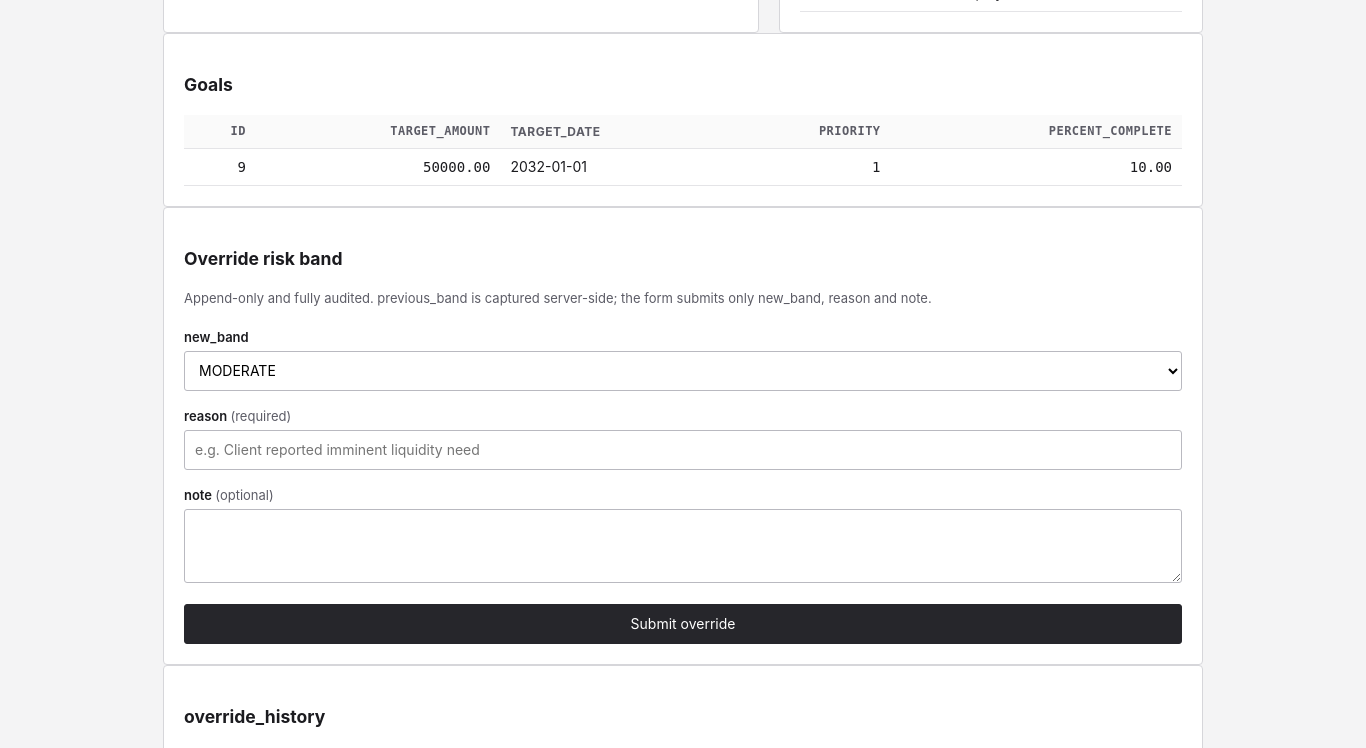
CustomerDetail › updates the displayed risk_band and override_history after a successful override, without navigating
(page scrolled)
Select "CONSERVATIVE" in the dropdown labelled "new_band" at x=683, y=371, box left=184, top=351, right=1182, bottom=391
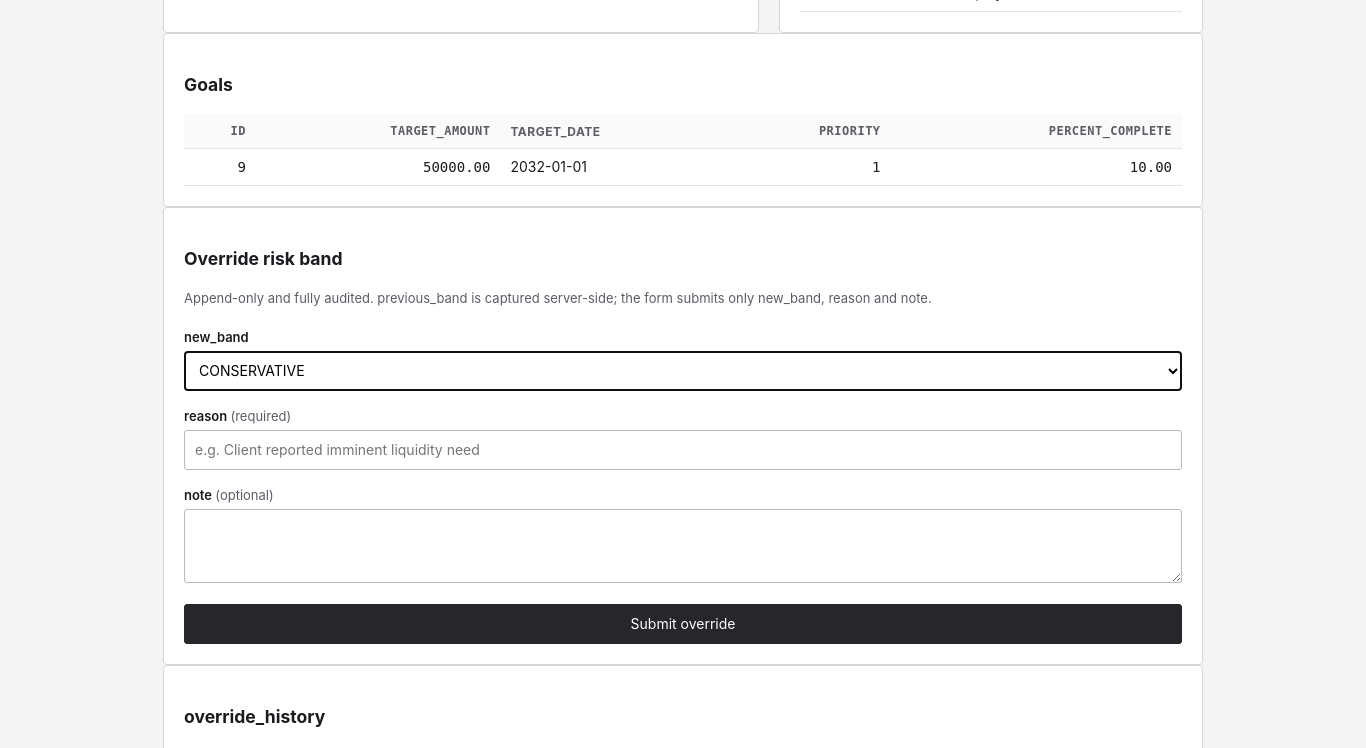
Type "Client reported imminent liquidity need" into the field labelled "reason (required)" at x=683, y=450, box left=184, top=430, right=1182, bottom=470
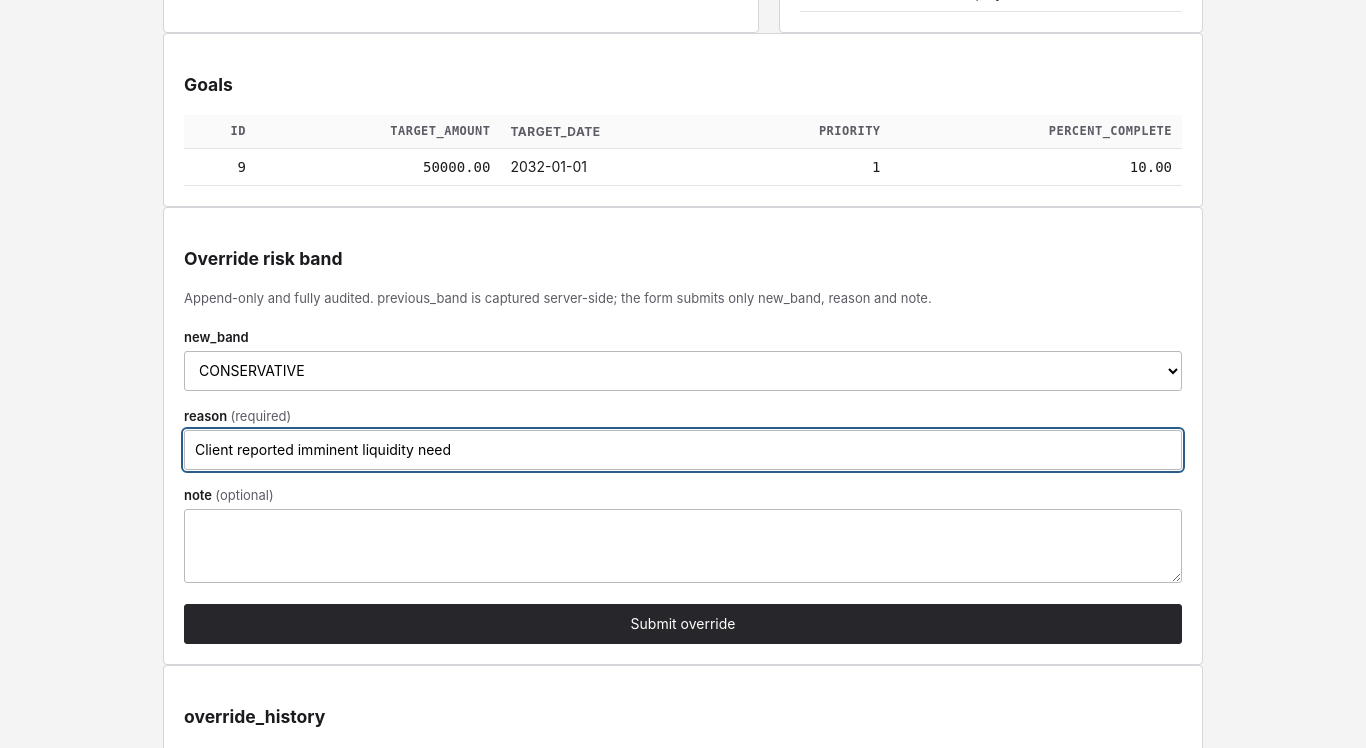
Click the button with test id "override-submit" at x=683, y=624, box left=184, top=604, right=1182, bottom=644
(page scrolled)
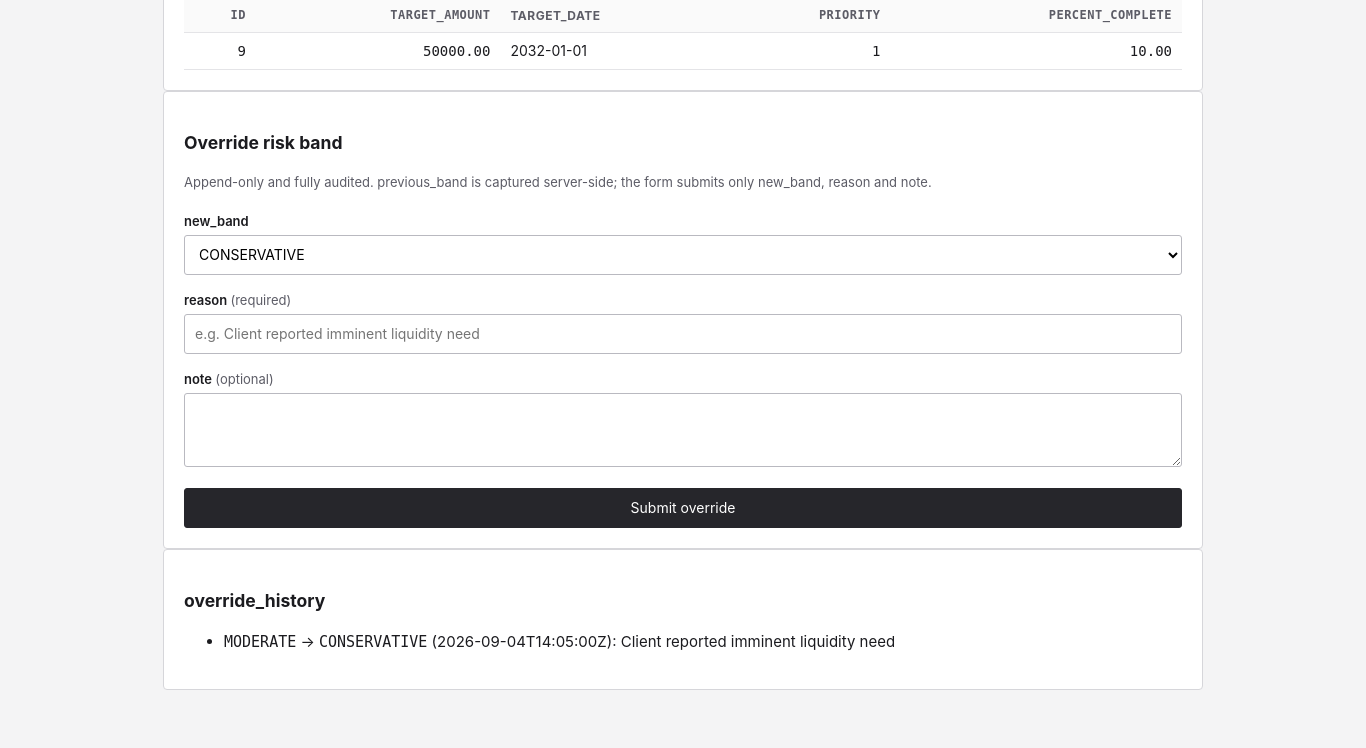
Now the list with test id "override-history" shows "Client reported imminent liquidity need", box left=621, top=632, right=895, bottom=651
